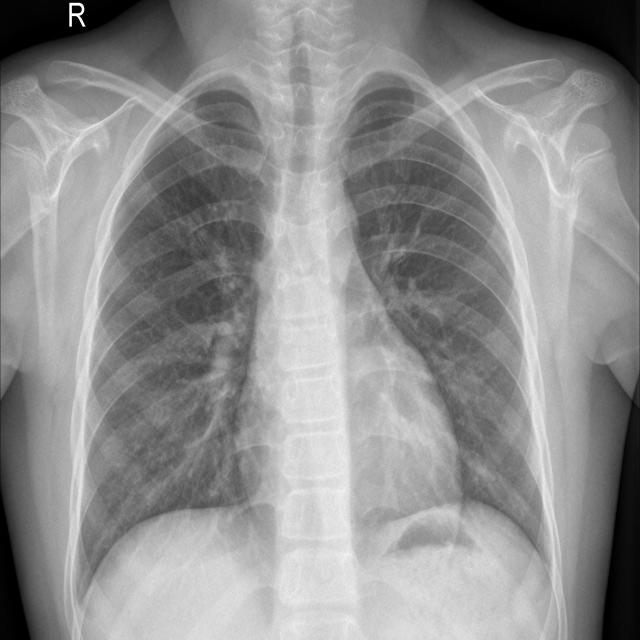no-pneumonia: (342, 75, 544, 544), (81, 89, 271, 580)
